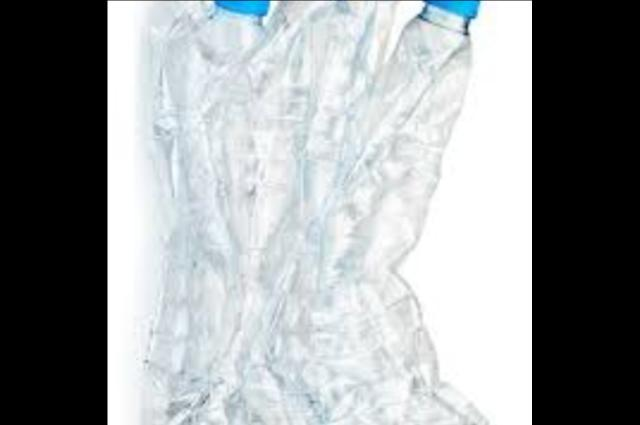plastic: (153, 0, 489, 425)
